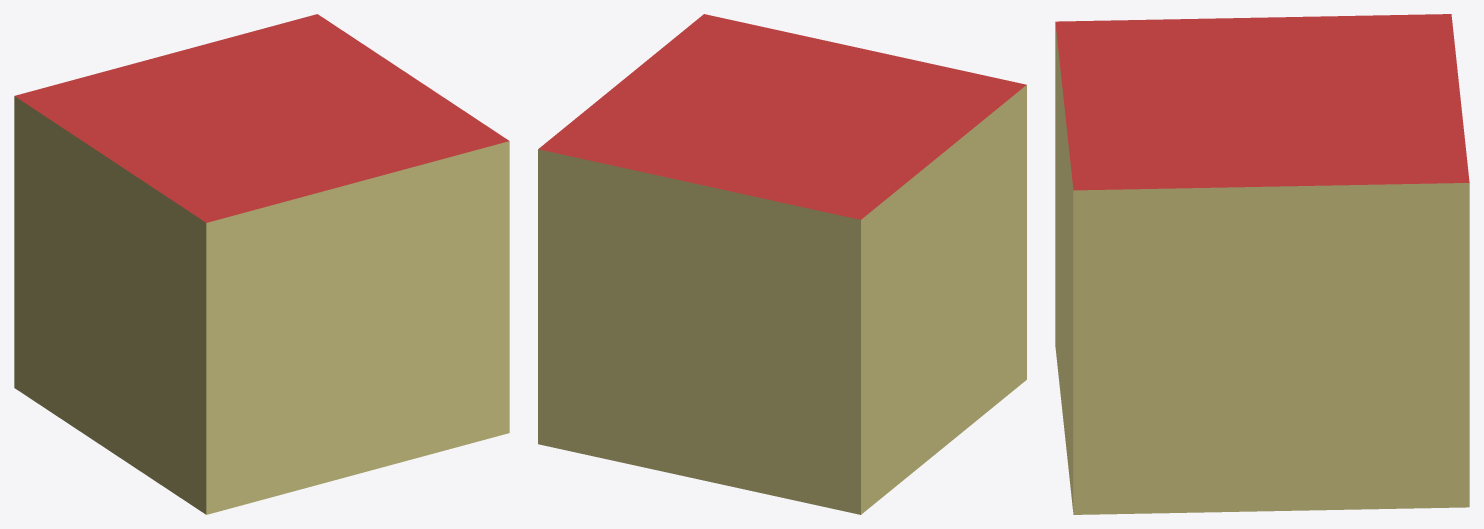
3 renders of one model, left to right at view 1: azimuth 30°, elevation 25°; view 2: azimuth 150°, elevation 25°; view 3: azimuth 270°, elevation 25°, orthographic. The views are drawn at different scales.
Size of the model in its own units: 6.5 by 6.45 by 5.57.
